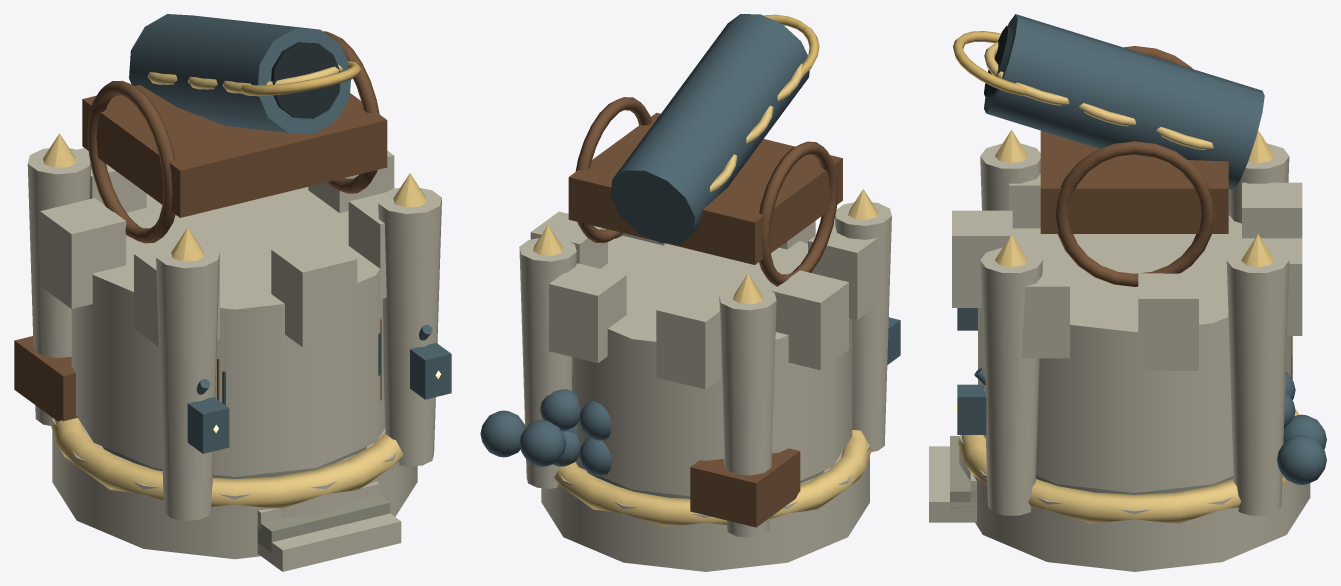
Rendered from tower-cannon-2-base.glb.
3 views of the same model, side by side, from view 1: azimuth 30°, elevation 25°; view 2: azimuth 150°, elevation 25°; view 3: azimuth 270°, elevation 25° (orthographic). The views are drawn at different scales.
Visible parts, largest first — view 1: Foundation, Turret, cannon-L2-base; view 2: Foundation, Turret, cannon-L2-base; view 3: Foundation, Turret, cannon-L2-base.
Part boxes in pixels (left/top/right/bottom): Foundation: left=14, top=133, right=451, bottom=571; Turret: left=82, top=14, right=387, bottom=243; cannon-L2-base: left=52, top=418, right=417, bottom=559; Foundation: left=480, top=189, right=900, bottom=537; Turret: left=568, top=14, right=842, bottom=286; cannon-L2-base: left=541, top=440, right=869, bottom=571; Foundation: left=929, top=130, right=1326, bottom=523; Turret: left=953, top=14, right=1264, bottom=286; cannon-L2-base: left=959, top=435, right=1310, bottom=571.
Size of the model in its own units: 1.71 by 2.53 by 1.91.
